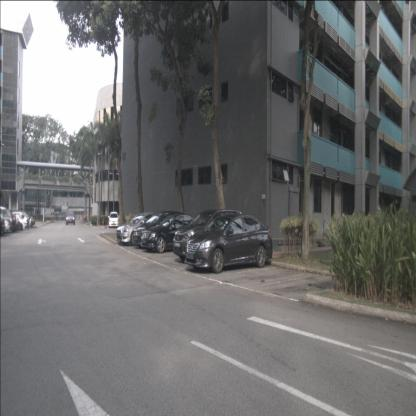human-pedestrian-adult: (84, 210, 87, 224)
vehicle-car: (184, 214, 273, 274), (173, 209, 243, 262), (140, 213, 204, 254), (132, 211, 188, 249), (116, 211, 168, 246), (3, 211, 32, 230), (0, 206, 16, 236), (108, 211, 119, 228), (66, 211, 75, 226)
